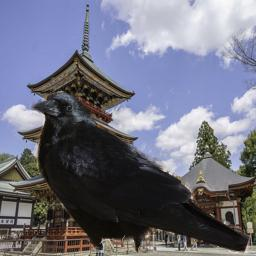Crow: (29, 91, 250, 253)
